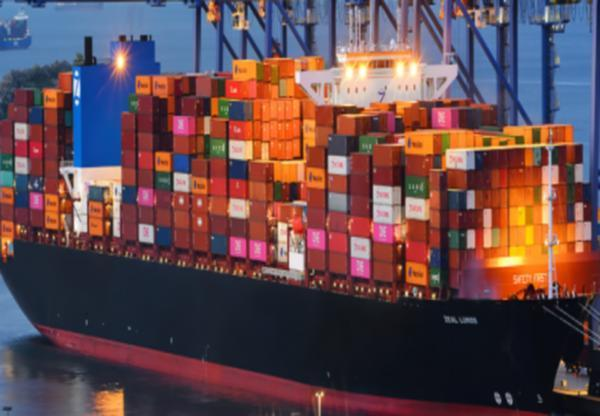Container Ship: (0, 29, 599, 415)
